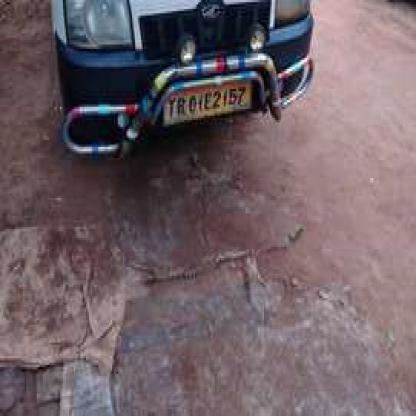license_plate: (161, 78, 250, 124)
